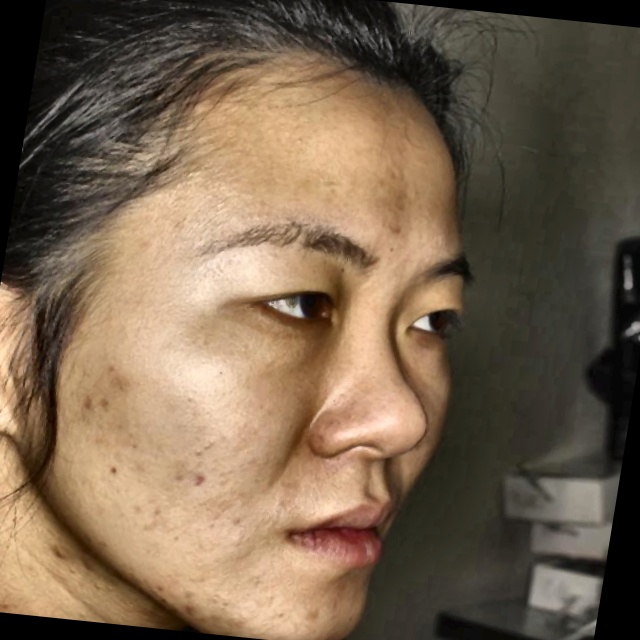comedone: (175, 592, 218, 628), (103, 363, 141, 399)
